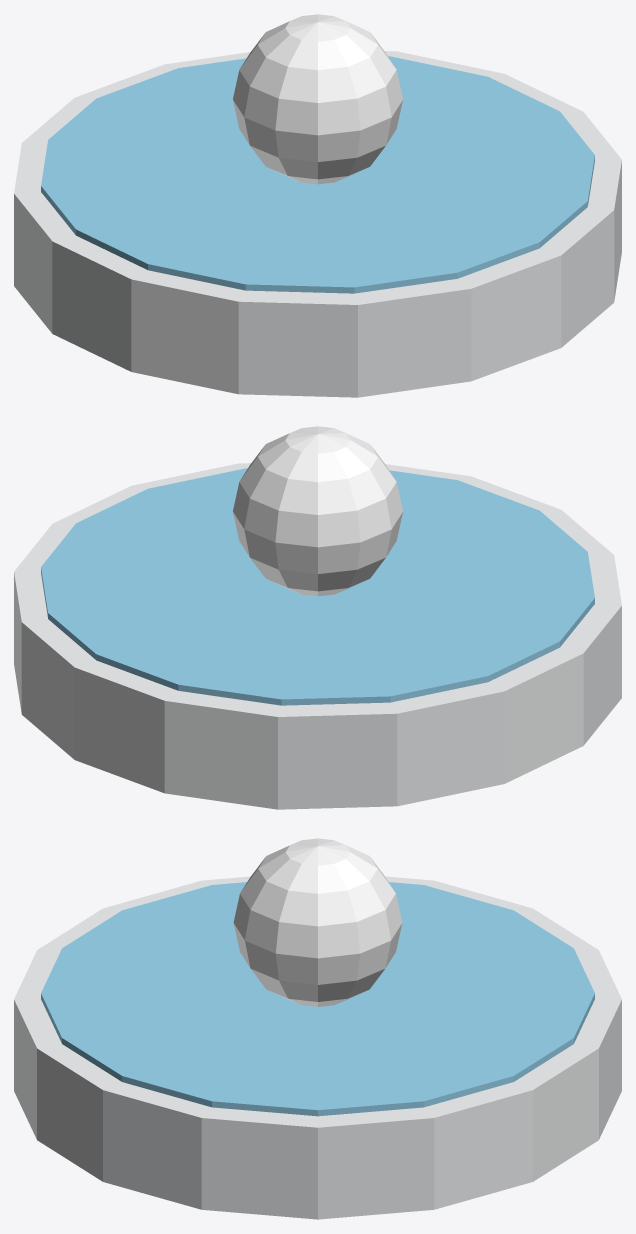
Rendered from prop_fountain.glb.
3 renders of one model, top to bottom at view 1: azimuth 30°, elevation 25°; view 2: azimuth 150°, elevation 25°; view 3: azimuth 270°, elevation 25°, orthographic.
Parts seen in each view (by area): view 1: prop_fountain; view 2: prop_fountain; view 3: prop_fountain.
Part boxes in pixels (x1,y1,x2,y2): prop_fountain: [14, 14, 621, 397]; prop_fountain: [14, 426, 621, 809]; prop_fountain: [14, 838, 621, 1219].
Bounding box in the file's own units: 1.8 × 0.8 × 1.8.
